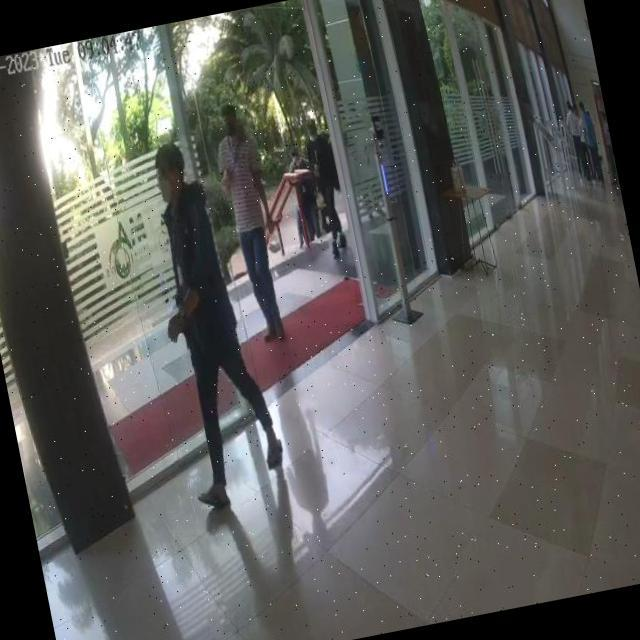person: (138, 134, 289, 512), (209, 97, 294, 348), (300, 115, 352, 258)
